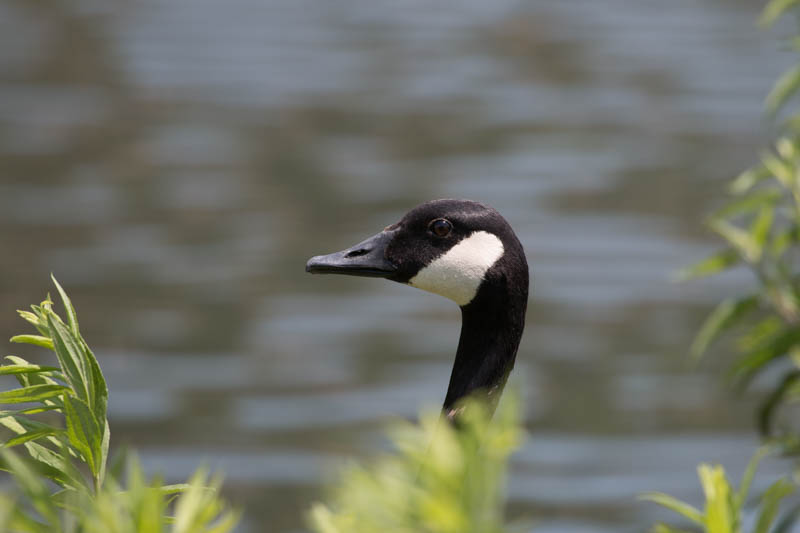goose-head: (305, 198, 530, 307)
